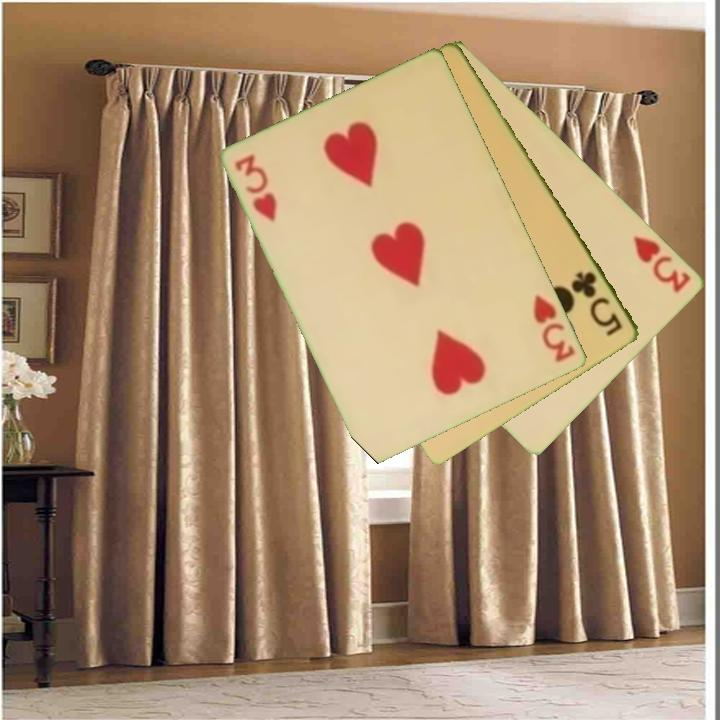3h: (630, 232, 694, 296), (231, 151, 281, 225), (530, 291, 579, 366)
5c: (568, 268, 626, 340)
